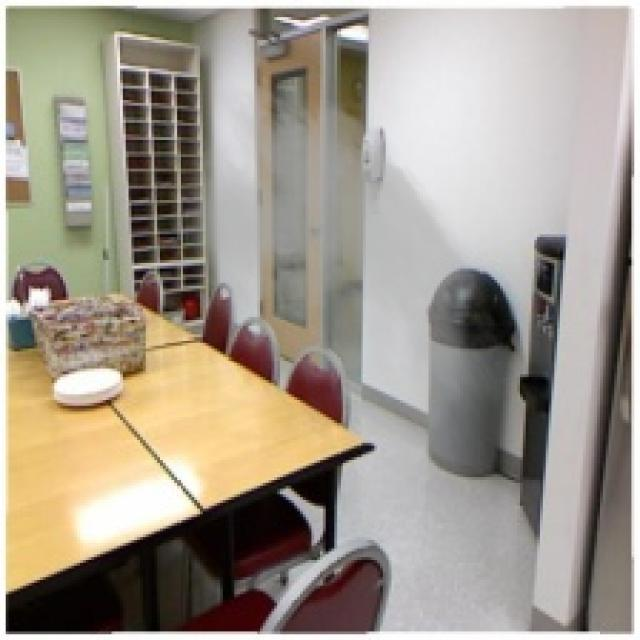Smoke: (160, 71, 520, 488)
